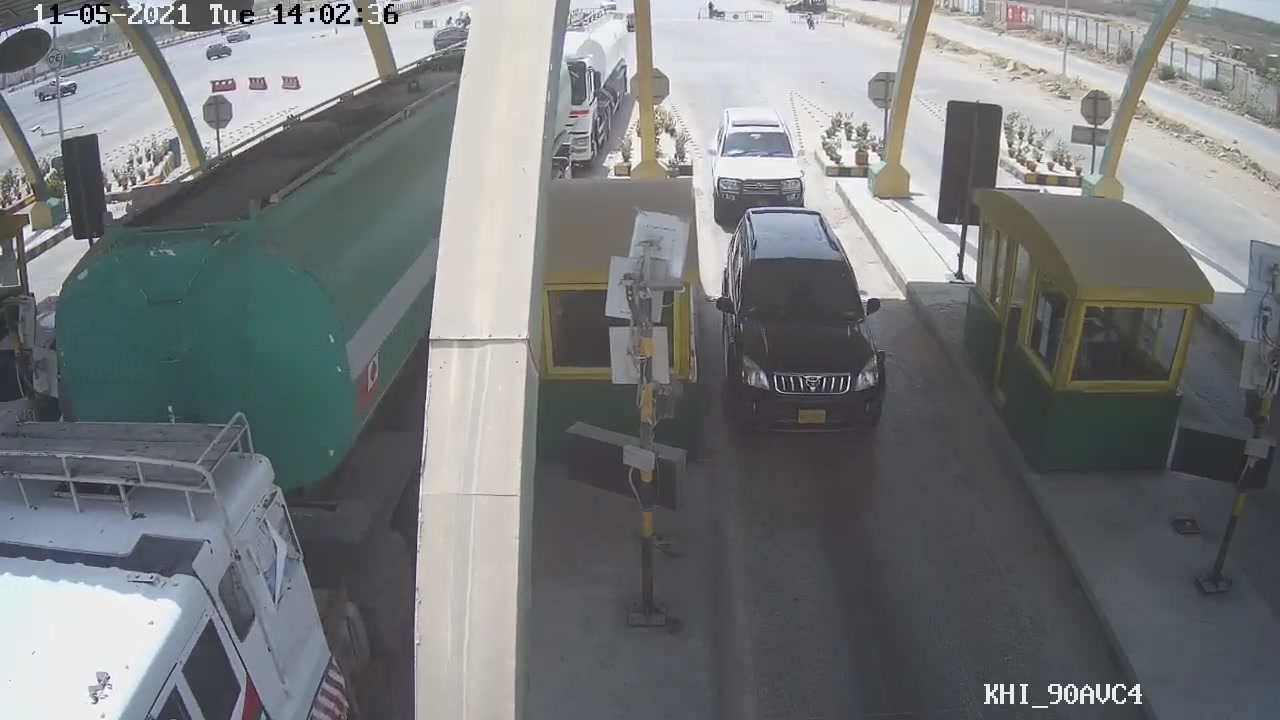F1: (710, 203, 888, 432)
